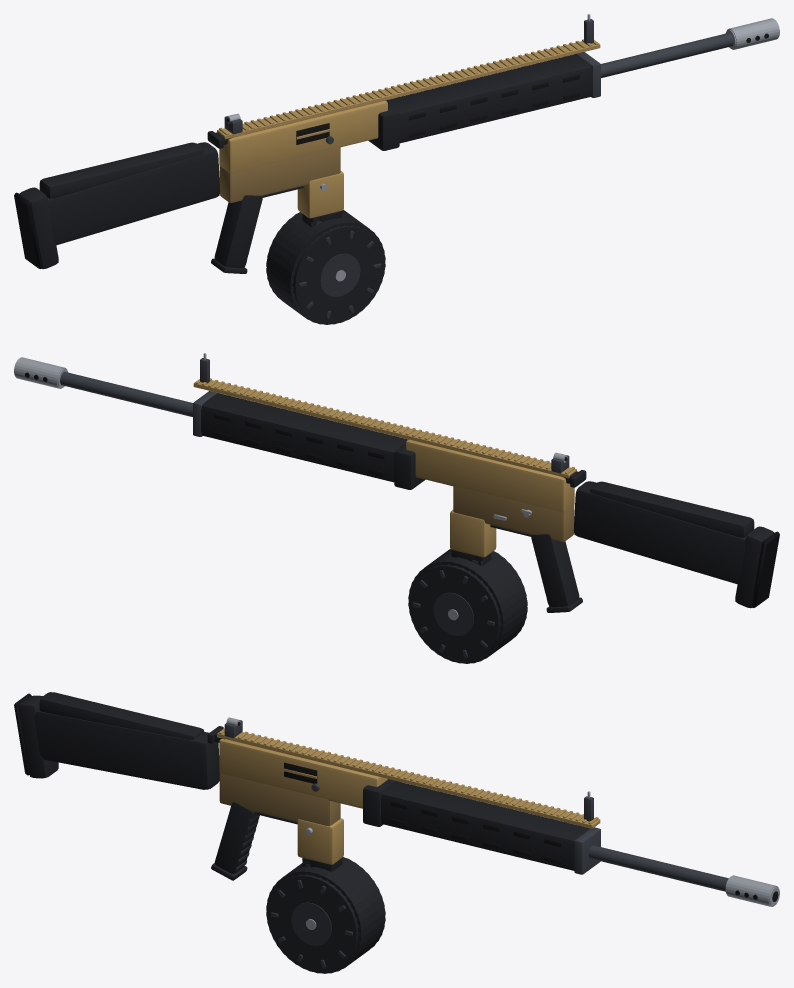
File: dmr14.glb
The picture shows the model from 3 angles, top to bottom: view 1: azimuth 30°, elevation 25°; view 2: azimuth 150°, elevation 25°; view 3: azimuth 330°, elevation 25°; orthographic projection.
Parts seen in each view (by area): view 1: dmr14_body, dmr14_stock, mag_drum; view 2: dmr14_body, dmr14_stock, mag_drum; view 3: dmr14_body, dmr14_stock, mag_drum.
Boxes of the visible parts, left/top/right/bottom form: dmr14_body: left=207, top=14, right=779, bottom=273; dmr14_stock: left=14, top=142, right=220, bottom=269; mag_drum: left=266, top=210, right=385, bottom=324; dmr14_body: left=14, top=353, right=586, bottom=612; dmr14_stock: left=573, top=481, right=779, bottom=608; mag_drum: left=408, top=549, right=527, bottom=663; dmr14_body: left=207, top=717, right=779, bottom=906; dmr14_stock: left=14, top=692, right=219, bottom=789; mag_drum: left=266, top=857, right=385, bottom=973.
Bounding box in the file's own units: 1.19 × 0.3541 × 0.082.
